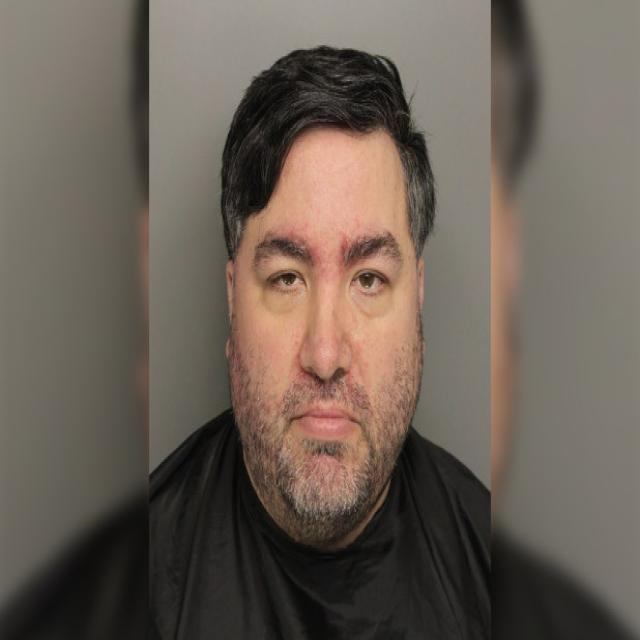human: (157, 25, 488, 640)
